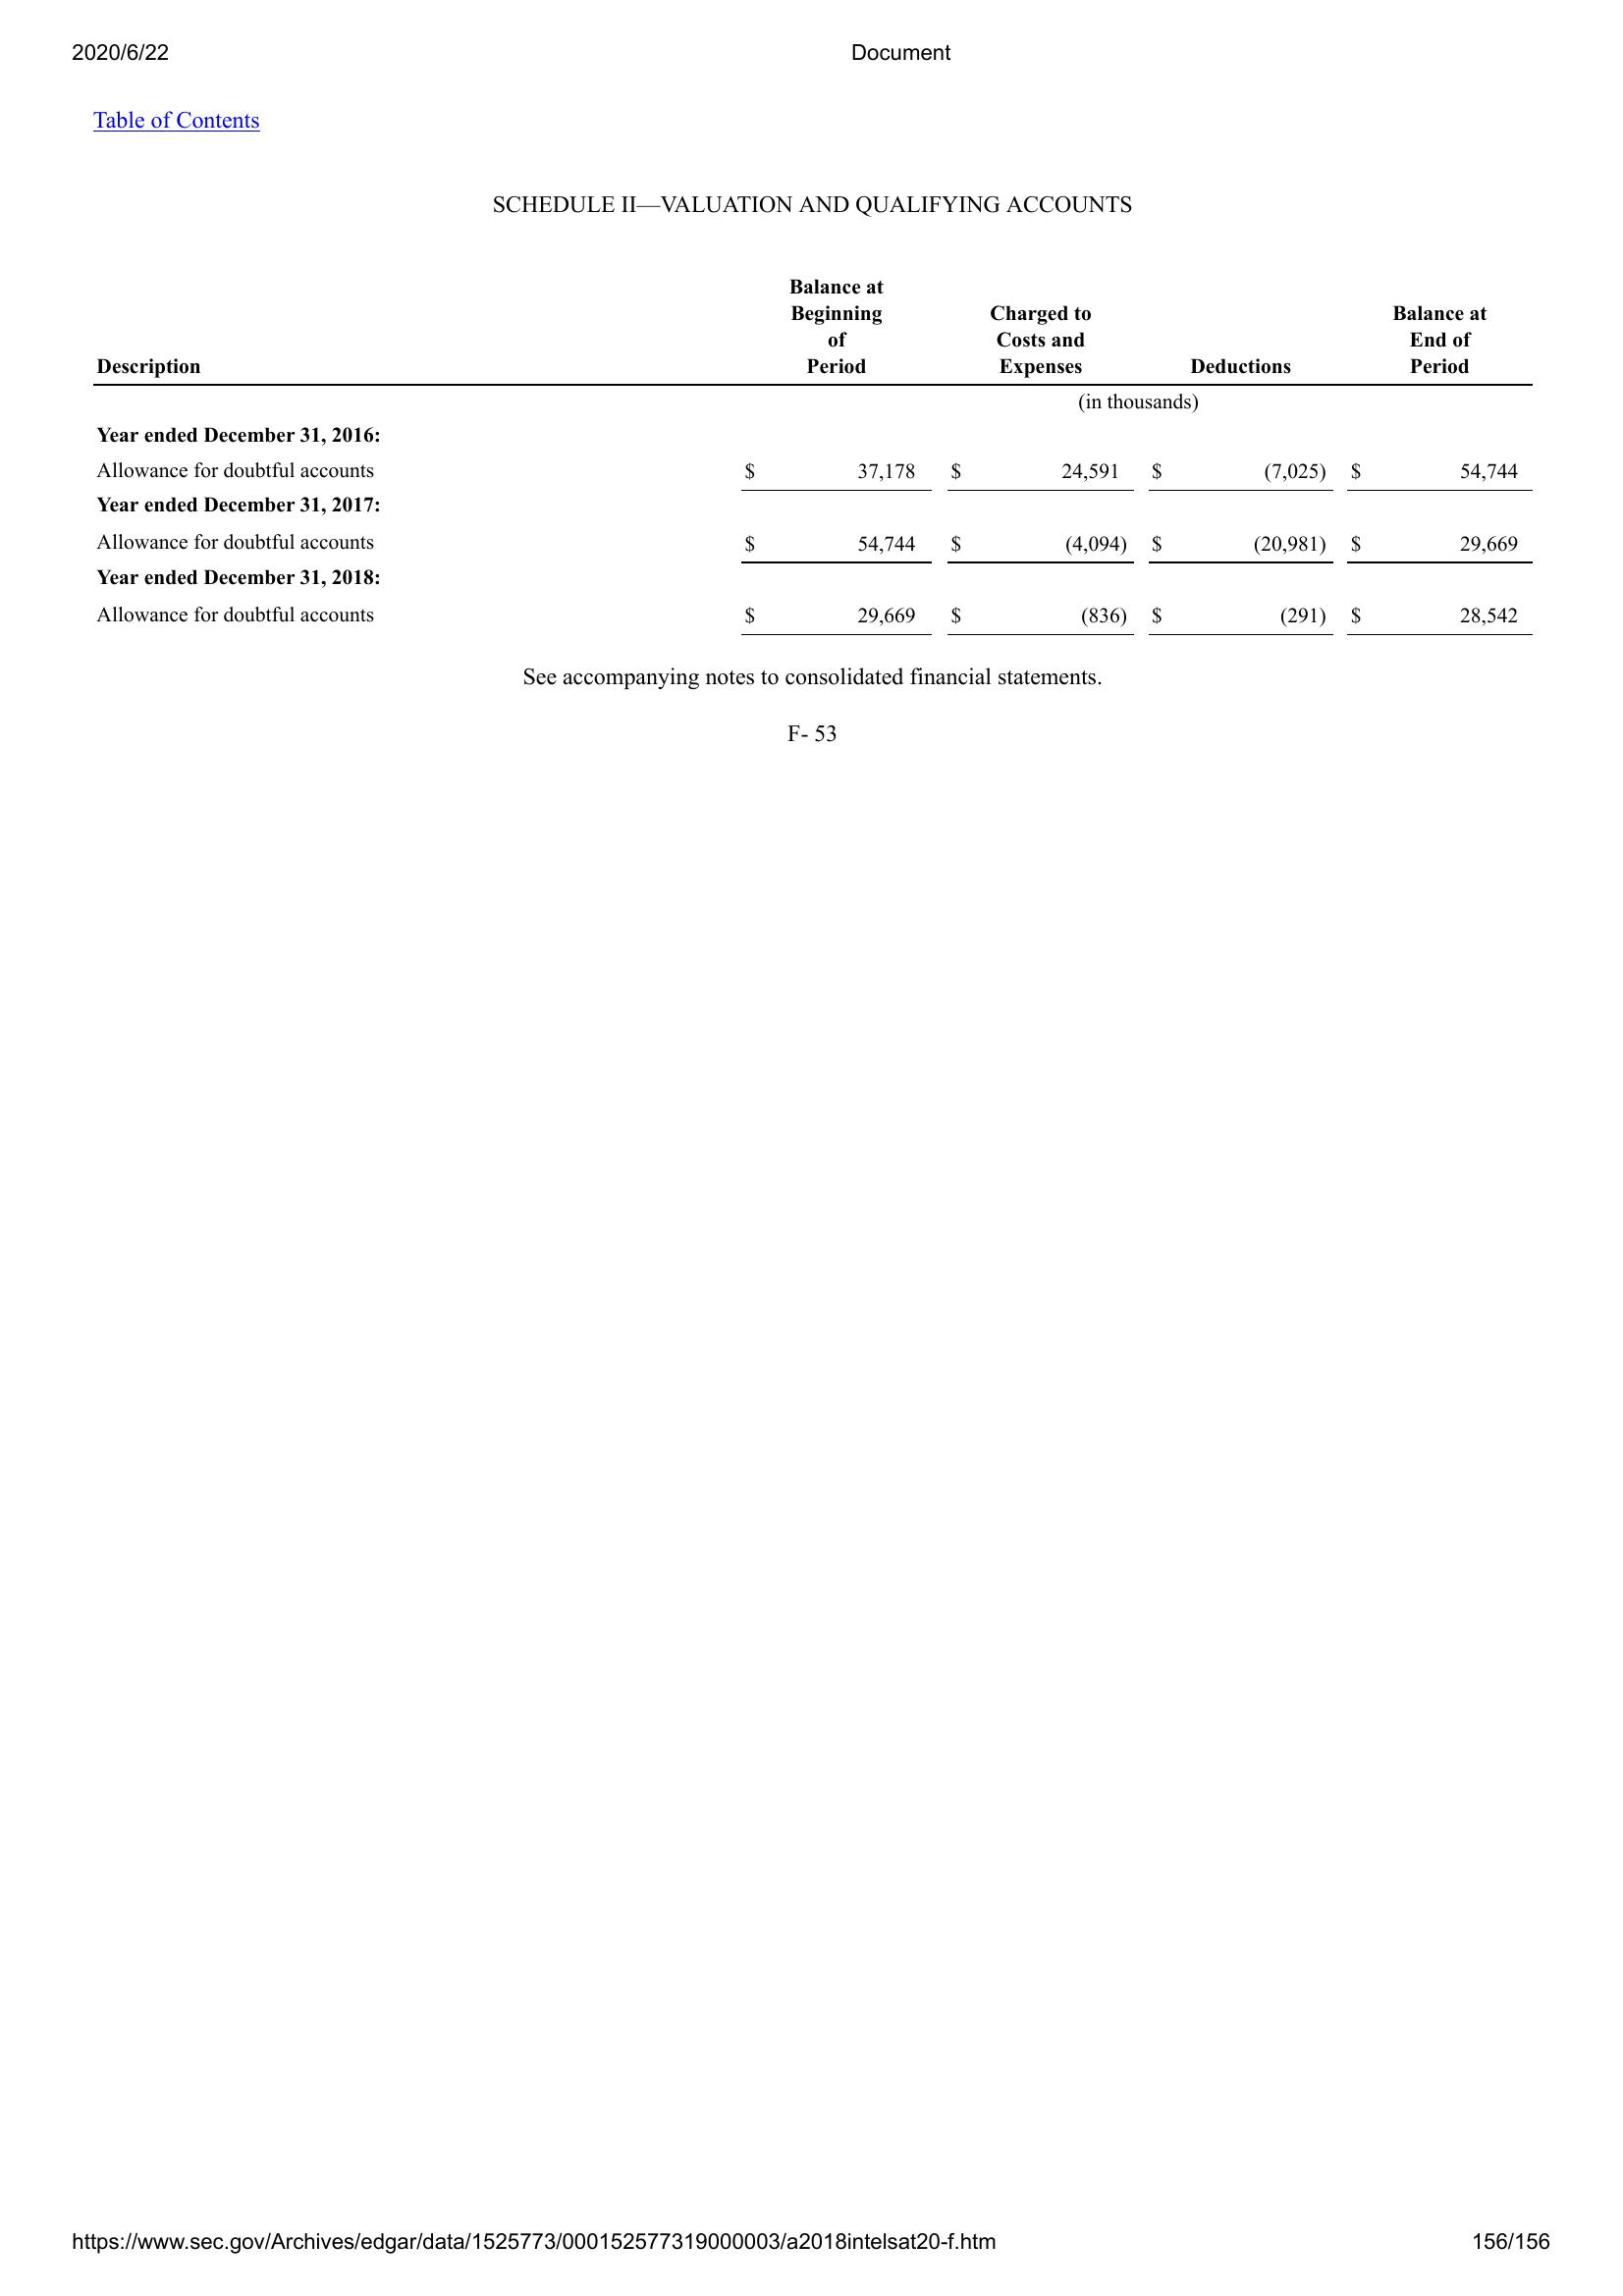table: (74, 270, 1539, 649)
